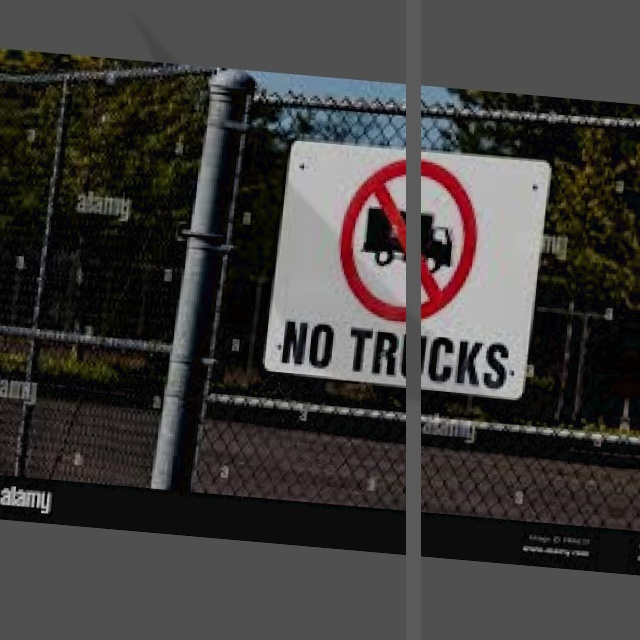Truck_Prohibited: (326, 148, 490, 333)
